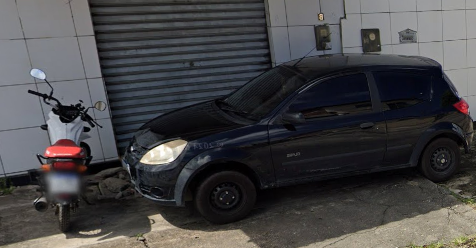car: (119, 32, 476, 227)
